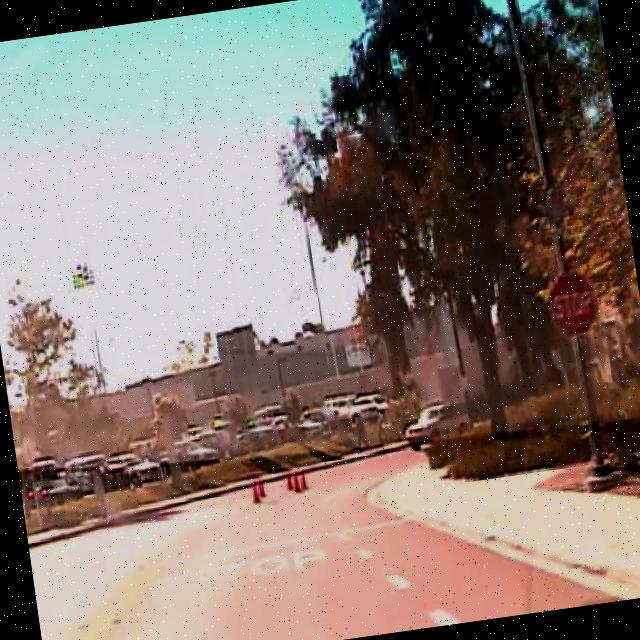Stop: (543, 269, 601, 343)
